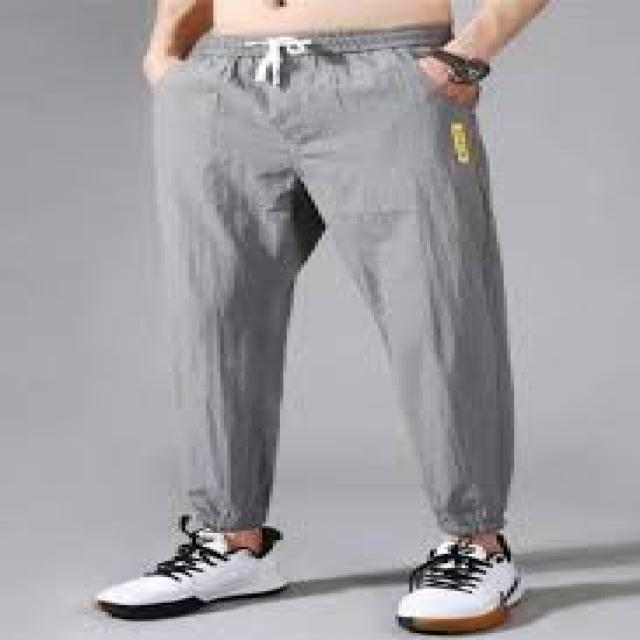pants: (145, 22, 517, 534)
